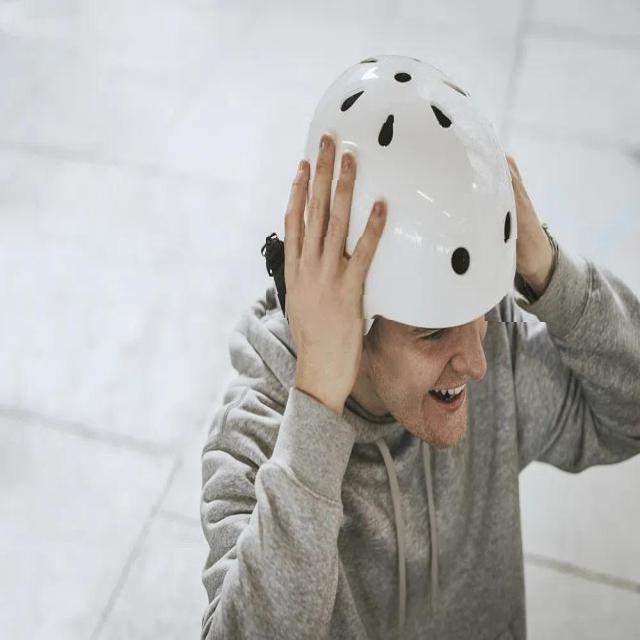helmet: (267, 40, 560, 321)
